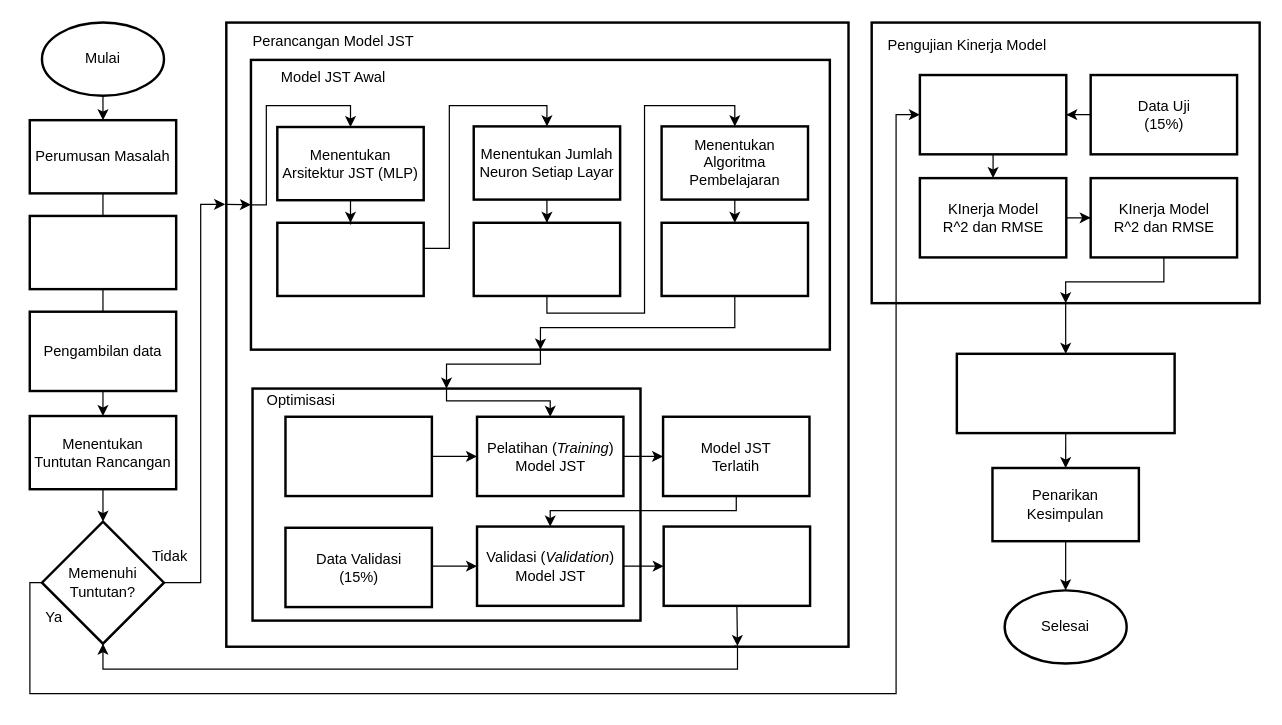
Some shapes in this 1282 by 725 pixel diagram are drawn without their labels. The shapes that lost their labels are listed below. From the top down, each one's centre as x and y in pixels, then its label:
[992,114]: Pengujian ( Testing ) Model JST
[102,252]: Studi Literatur
[349,259]: Menentukan Jumlah Layar Tersembunyi
[546,259]: Menentukan Fungsi Aktivasi Setiap Layar
[734,259]: Menentukan Nilai Bobot Setiap Neuron
[1065,393]: Pembangunan Piranti Lunak ( Software ) Kendali
[358,456]: Data Latih (70%)
[736,565]: Model JST Tervalidasi
